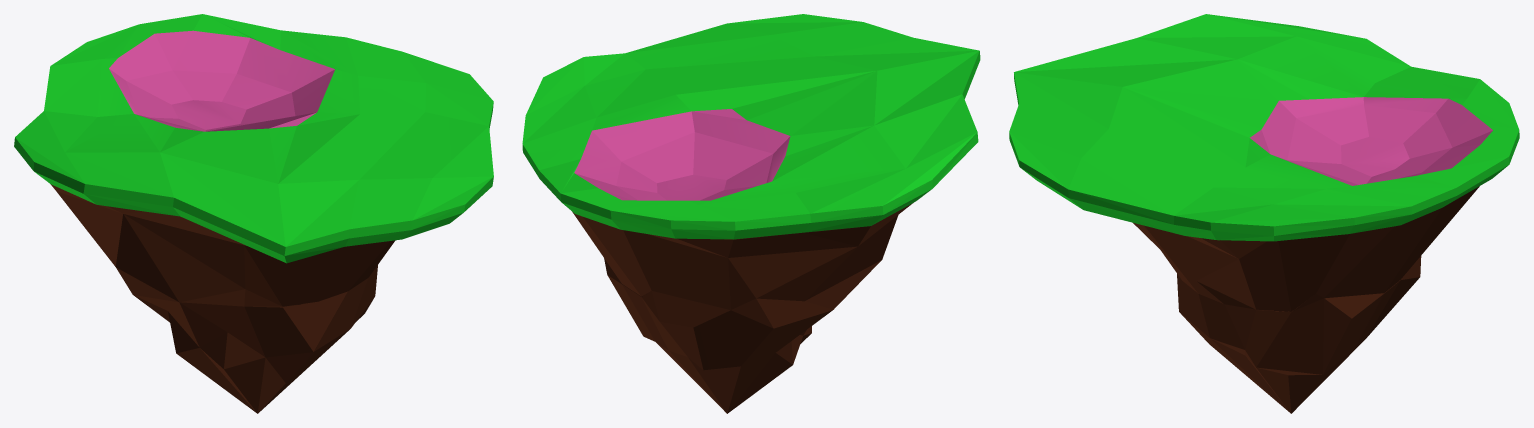
File: world-oasis-organic-land-obj.obj
3 renders of one model, left to right at view 1: azimuth 30°, elevation 25°; view 2: azimuth 150°, elevation 25°; view 3: azimuth 270°, elevation 25°, orthographic. The views are drawn at different scales.
Visible parts, largest first — view 1: world-oasis.009; view 2: world-oasis.009; view 3: world-oasis.009.
Part boxes in pixels (left/top/right/bottom): world-oasis.009: left=14, top=14, right=493, bottom=413; world-oasis.009: left=522, top=14, right=980, bottom=413; world-oasis.009: left=1009, top=14, right=1519, bottom=413.
Bounding box in the file's own units: 21.56 × 15.42 × 23.82.
